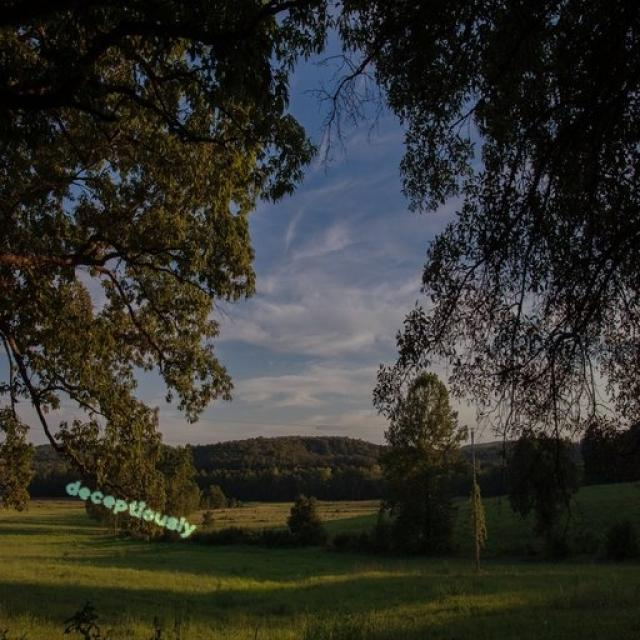watermark: (59, 477, 206, 539)
